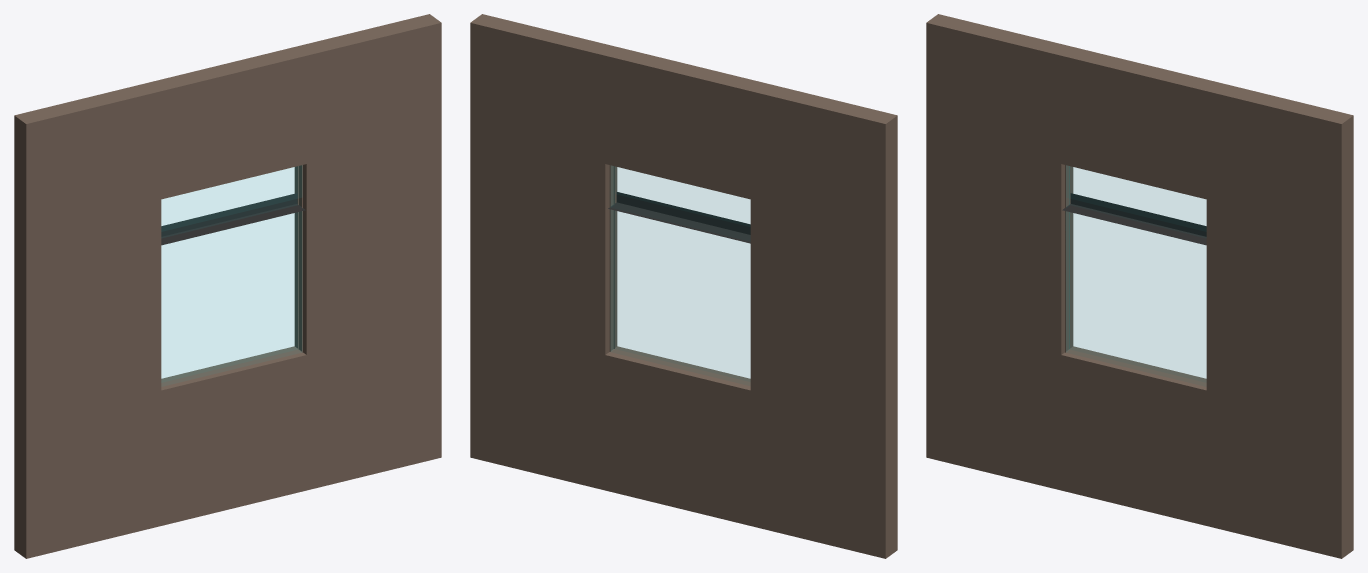
File: Window.glb
The picture shows the model from 3 angles, left to right: view 1: azimuth 30°, elevation 25°; view 2: azimuth 150°, elevation 25°; view 3: azimuth 330°, elevation 25°; orthographic projection.
Visible parts, largest first — view 1: DoorWindow; view 2: DoorWindow; view 3: DoorWindow.
Boxes of the visible parts, x1,y1,x2,y2 form: DoorWindow: (14, 14, 441, 558); DoorWindow: (470, 14, 897, 558); DoorWindow: (926, 14, 1353, 558).
Size of the model in its own units: 4 by 4 by 0.2.
